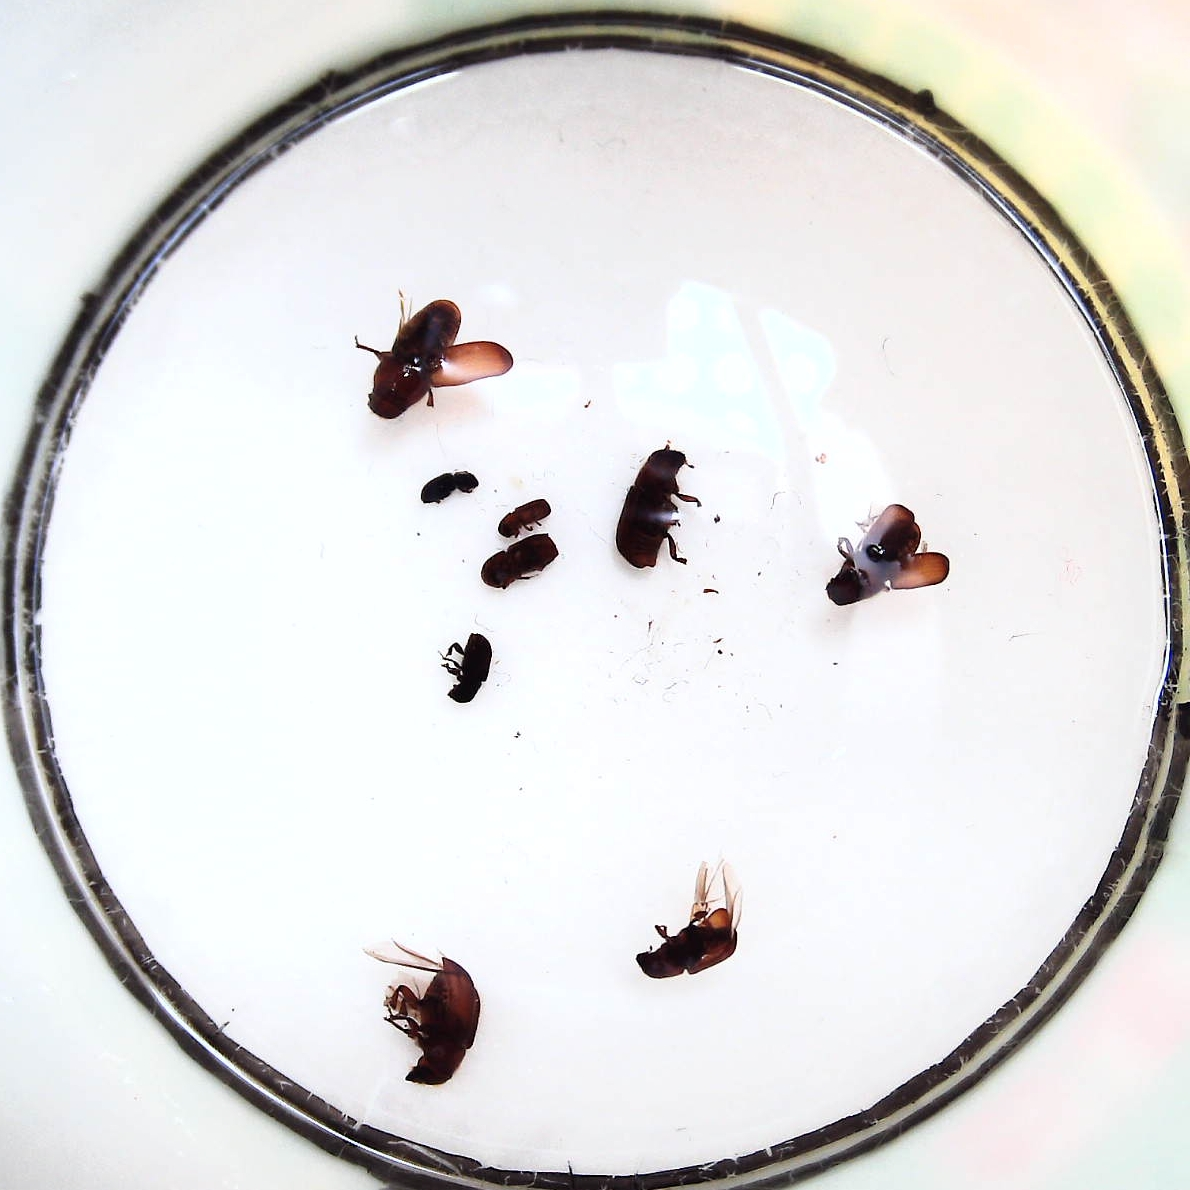Leconte: (360, 297, 514, 416), (378, 946, 479, 1089), (821, 500, 954, 608), (616, 444, 704, 572), (631, 897, 742, 982)
Linnaeus: (479, 534, 563, 592)
acuminatus: (498, 498, 552, 534)
armandi: (446, 632, 491, 703)
coleoptera: (416, 467, 479, 503)
